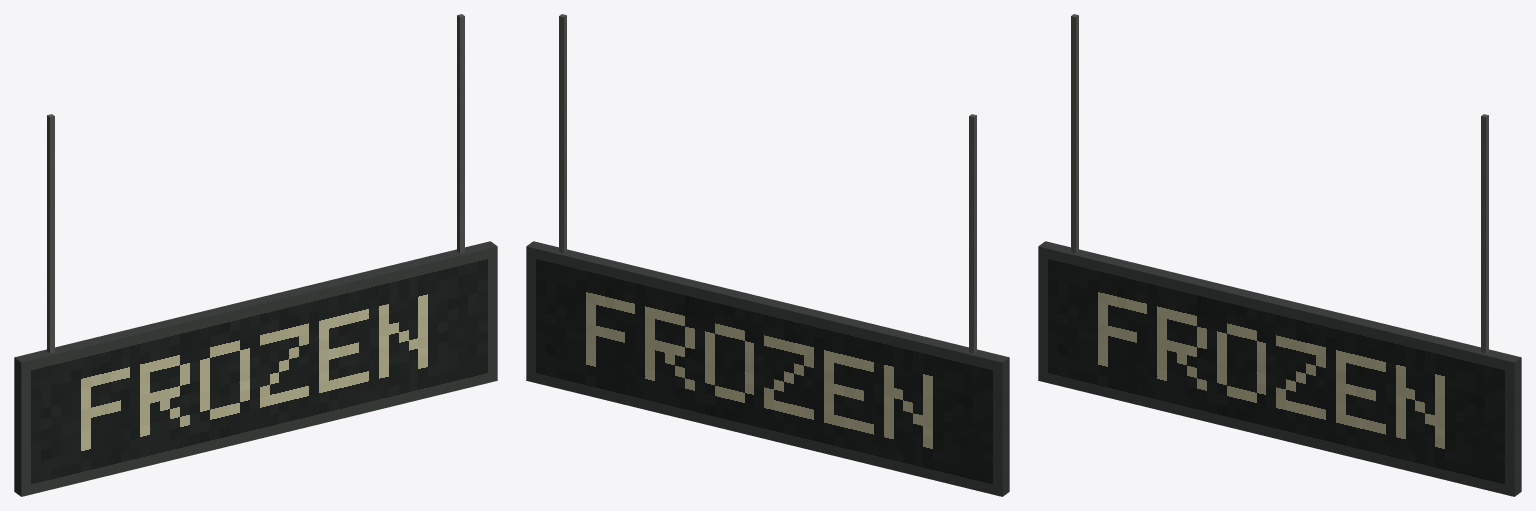
The model's file is sign_frozen.glb.
3 views of the same model, side by side, from view 1: azimuth 30°, elevation 25°; view 2: azimuth 150°, elevation 25°; view 3: azimuth 330°, elevation 25° (orthographic).
Parts seen in each view (by area): view 1: SignFrozen; view 2: SignFrozen; view 3: SignFrozen.
Part boxes in pixels (x1,y1,x2,y2): SignFrozen: (14, 14, 497, 496); SignFrozen: (526, 14, 1009, 496); SignFrozen: (1038, 14, 1521, 496).
Size of the model in its own units: 1.15 by 0.855 by 0.03.
Materials: 1 (1 with a texture image).
